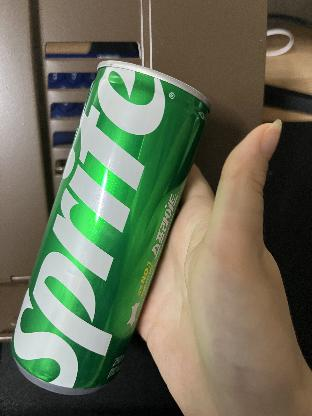Can: (11, 58, 212, 395)
